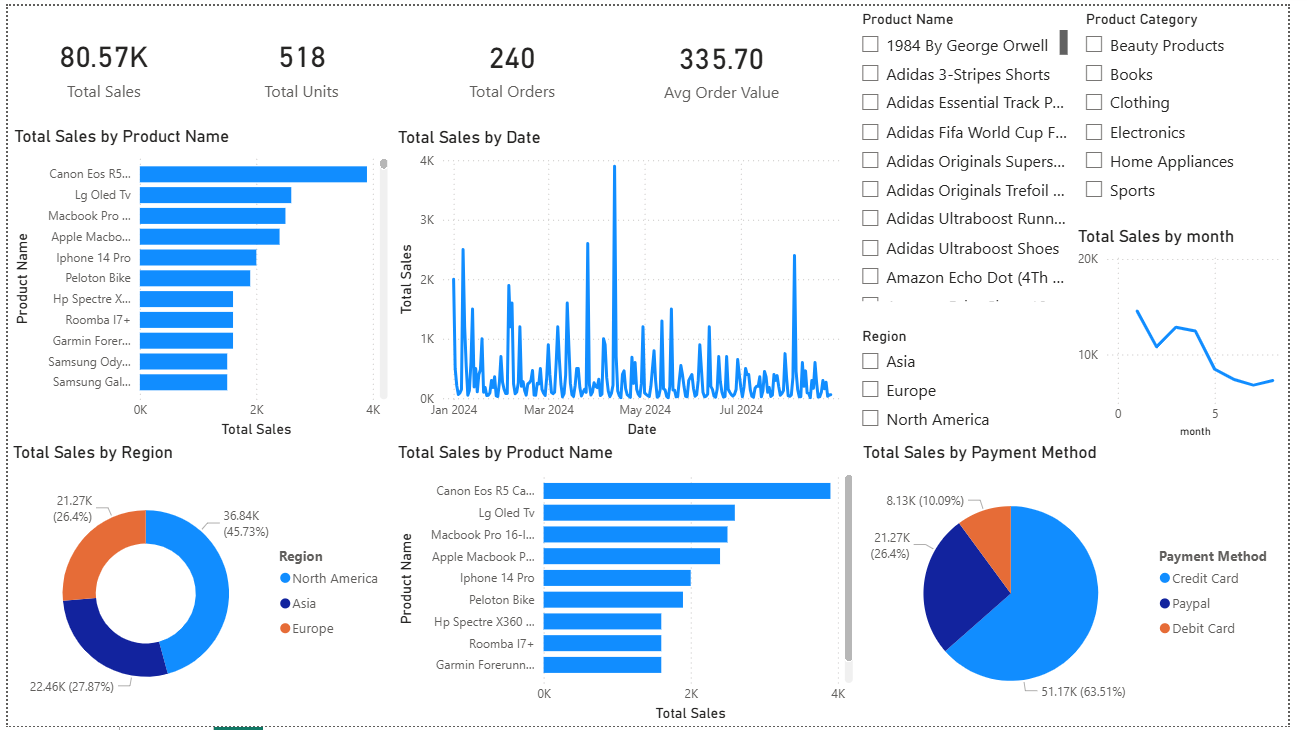

This screenshot's page, from the dashboard's own definition file:
{"tool":"powerbi","page":{"name":"Page 1","canvas":[1280,720],"ordinal":0},"visuals":[{"type":"card","fields":{"Values":["Cleaned_Online_Sales.Total Sales"]},"box":[0,0,192,120.5],"z":0},{"type":"card","fields":{"Values":["Cleaned_Online_Sales.Total Units"]},"box":[202.5,0,182.5,120],"z":1000},{"type":"card","fields":{"Values":["Cleaned_Online_Sales.Avg Order Value"]},"box":[617.5,1.2,192.5,121.2],"z":2000},{"type":"card","fields":{"Values":["Cleaned_Online_Sales.Total Orders"]},"box":[413.8,0,181.2,121.2],"z":3000},{"type":"lineChart","fields":{"Category":["Cleaned_Online_Sales.Date"],"Y":["Cleaned_Online_Sales.Total Sales"]},"box":[385,121.2,465,315],"z":4000},{"type":"donutChart","fields":{"Category":["Cleaned_Online_Sales.Region"],"Y":["Cleaned_Online_Sales.Total Sales"]},"box":[0,436.2,385,283.8],"z":5000},{"type":"pieChart","fields":{"Category":["Cleaned_Online_Sales.Payment Method"],"Y":["Cleaned_Online_Sales.Total Sales"]},"box":[850,436.2,430,283.8],"z":6000},{"type":"lineChart","fields":{"Category":["Cleaned_Online_Sales.month"],"Y":["Cleaned_Online_Sales.Total Sales"]},"box":[1065,220,215,216.2],"z":7000},{"type":"clusteredBarChart","fields":{"Category":["Cleaned_Online_Sales.Product Name"],"Y":["Cleaned_Online_Sales.Total Sales"]},"box":[385,436.2,465,283.8],"z":8000},{"type":"clusteredBarChart","fields":{"Category":["Cleaned_Online_Sales.Product Name"],"Y":["Cleaned_Online_Sales.Total Sales"]},"box":[1.2,120,383.8,316.2],"z":9000},{"type":"slicer","fields":{"Values":["Cleaned_Online_Sales.Product Category"]},"box":[1065,0,215,220],"z":9001},{"type":"slicer","fields":{"Values":["Cleaned_Online_Sales.Product Name"]},"box":[841.2,0,223.8,300],"z":9002},{"type":"slicer","fields":{"Values":["Cleaned_Online_Sales.Region"]},"box":[841.2,316.2,223.8,120],"z":9003}]}

Visuals, with their boxes in screenshot pixels (x1, y1, x2, y2), scaled from the page's 1280x720 canvas onto the 1307x730 screenshot:
card - Cleaned_Online_Sales.Total Sales: region(0, 0, 196, 122)
card - Cleaned_Online_Sales.Total Units: region(207, 0, 393, 122)
card - Cleaned_Online_Sales.Avg Order Value: region(631, 1, 827, 124)
card - Cleaned_Online_Sales.Total Orders: region(423, 0, 608, 123)
lineChart - Cleaned_Online_Sales.Date x Cleaned_Online_Sales.Total Sales: region(393, 123, 868, 442)
donutChart - Cleaned_Online_Sales.Region x Cleaned_Online_Sales.Total Sales: region(0, 442, 393, 729)
pieChart - Cleaned_Online_Sales.Payment Method x Cleaned_Online_Sales.Total Sales: region(868, 442, 1306, 729)
lineChart - Cleaned_Online_Sales.month x Cleaned_Online_Sales.Total Sales: region(1087, 223, 1306, 442)
clusteredBarChart - Cleaned_Online_Sales.Product Name x Cleaned_Online_Sales.Total Sales: region(393, 442, 868, 729)
clusteredBarChart - Cleaned_Online_Sales.Product Name x Cleaned_Online_Sales.Total Sales: region(1, 122, 393, 442)
slicer - Cleaned_Online_Sales.Product Category: region(1087, 0, 1306, 223)
slicer - Cleaned_Online_Sales.Product Name: region(859, 0, 1087, 304)
slicer - Cleaned_Online_Sales.Region: region(859, 321, 1087, 442)
